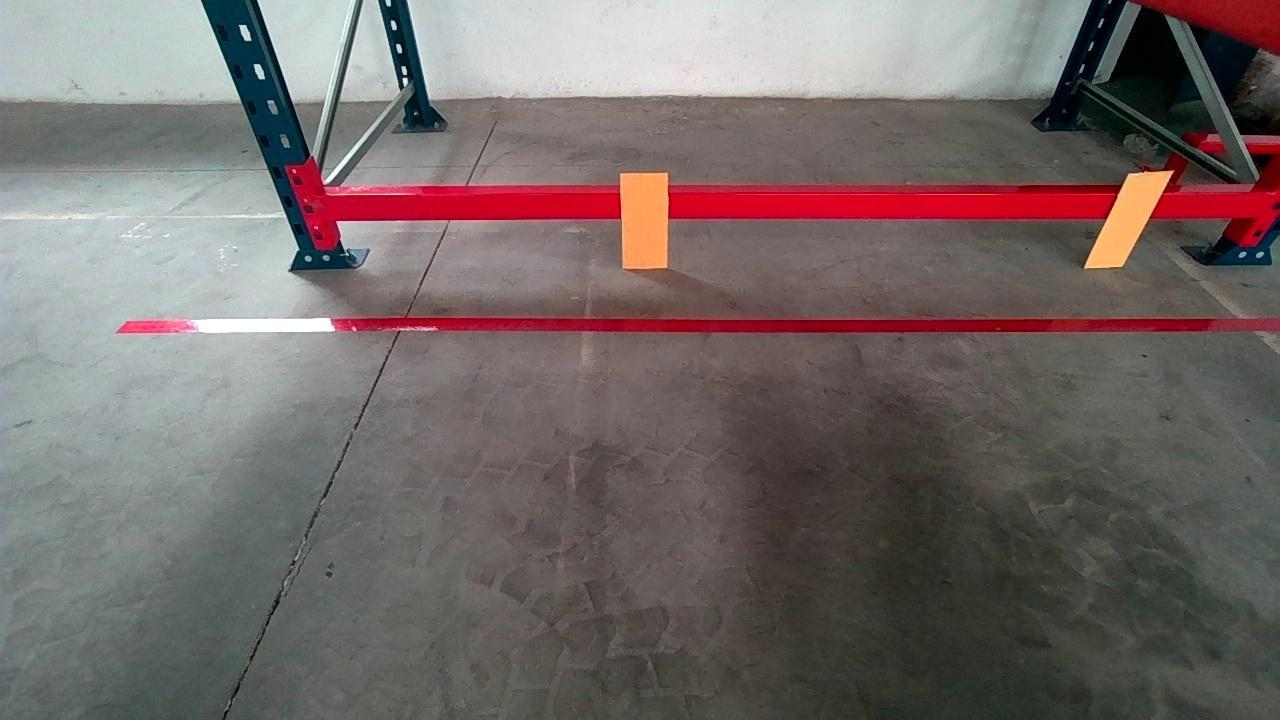h_rack: (321, 194, 1280, 218)
orange_strip: (1085, 171, 1175, 266), (621, 171, 670, 268)
red_line: (117, 313, 1280, 334)
